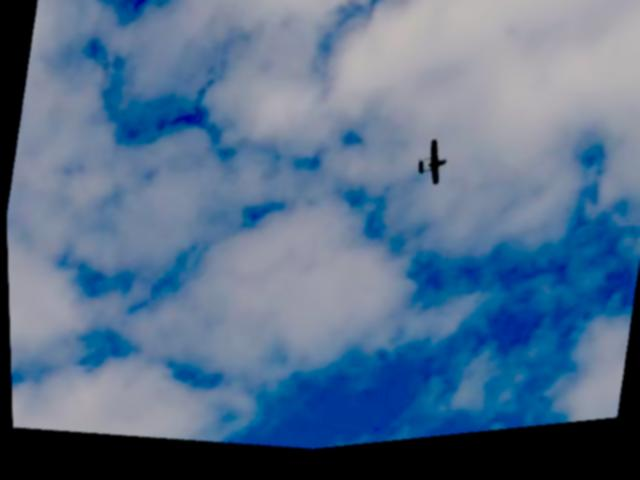uav: (409, 137, 454, 203)
